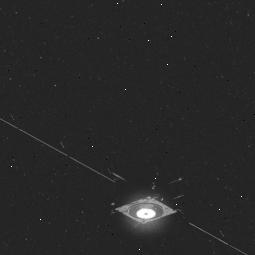smart_1: (73, 161, 228, 246)
